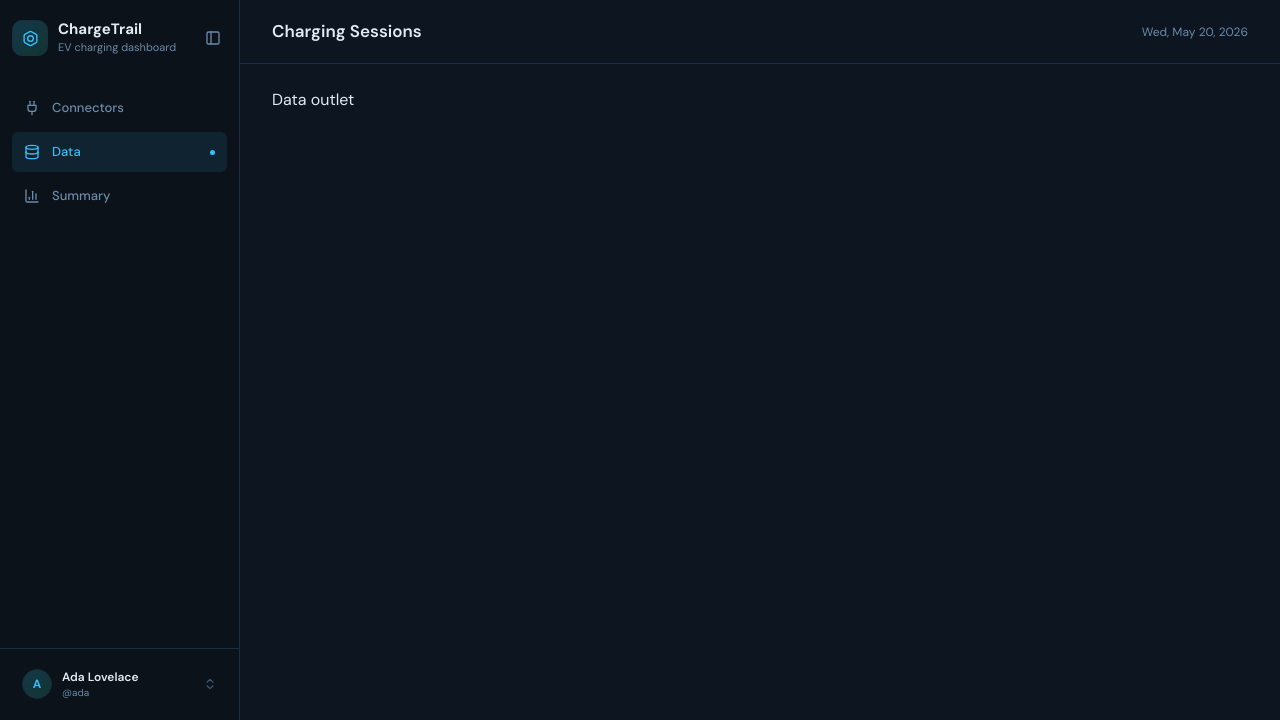
Test: AppShell › shows avatar menu items with settings below admin settings for admins
This screenshot has width=1280, height=720.
Click the button with aria-label "open account menu" at (120, 684), box [12,661,227,708]
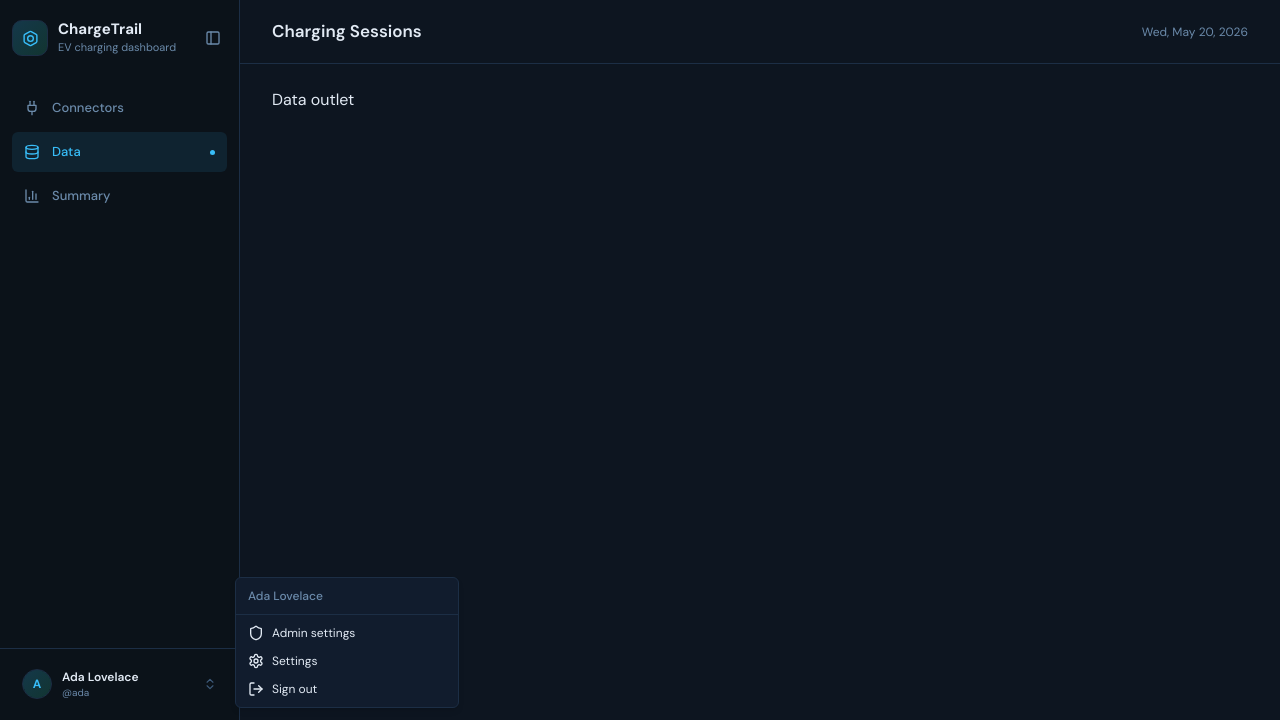
expect the menu item "Admin settings" is shown: met, box [248,625,355,641]
expect the menu items read "Admin settings", "Settings", "Sign out", in this order: met, box [248,625,355,641]; [248,653,318,669]; [248,681,317,697]
